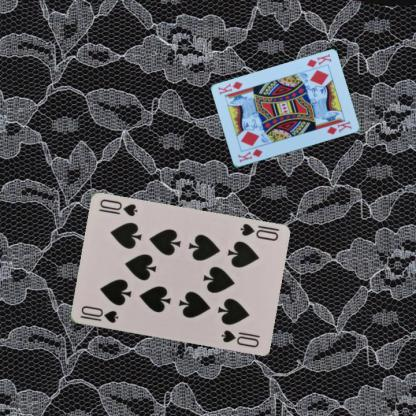10s: (237, 220, 279, 242), (78, 303, 119, 325)
Kd: (235, 146, 264, 164), (304, 51, 333, 69)
